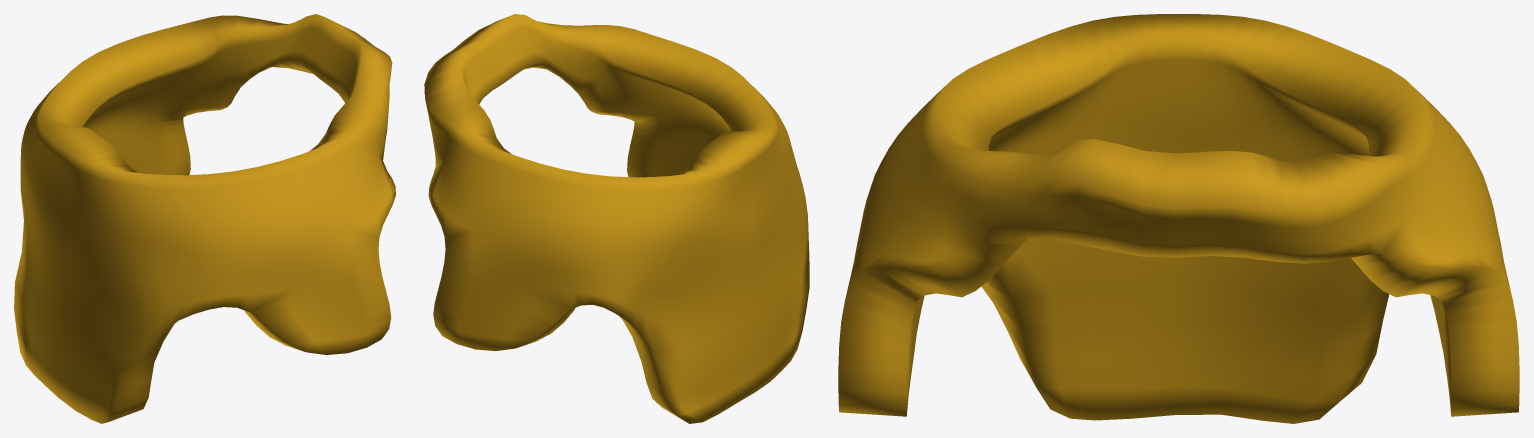
File: hair2.fbx
3 views of the same model, side by side, from view 1: azimuth 30°, elevation 25°; view 2: azimuth 150°, elevation 25°; view 3: azimuth 270°, elevation 25° (orthographic). The views are drawn at different scales.
Parts seen in each view (by area): view 1: Plane; view 2: Plane; view 3: Plane.
Boxes of the visible parts, <box> form: Plane: <box>14,14,395,423</box>; Plane: <box>424,14,809,423</box>; Plane: <box>838,14,1519,423</box>.
Bounding box in the file's own units: 175 × 161 × 217.
